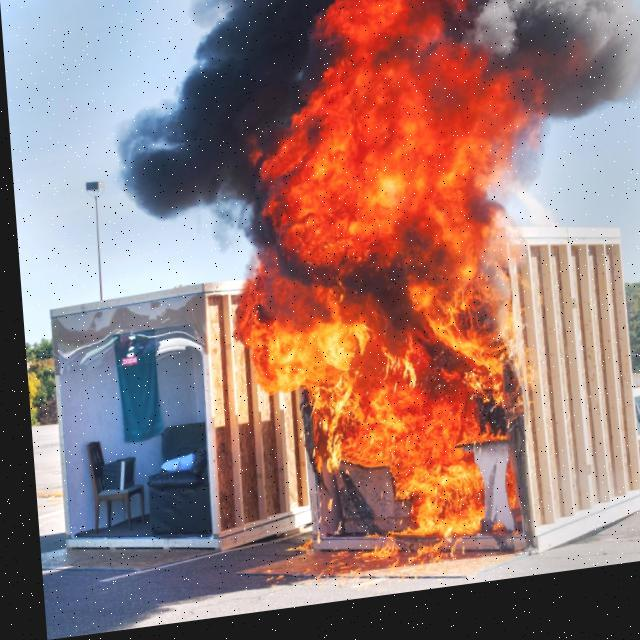Fire: (200, 0, 594, 594)
